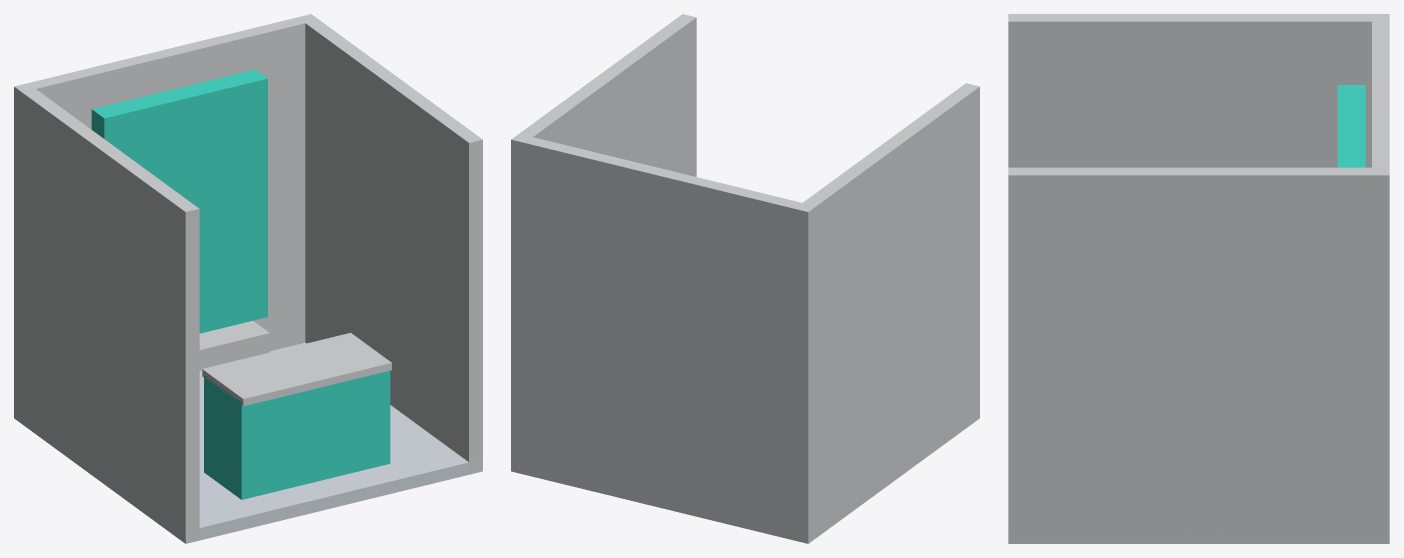
The picture shows the model from 3 angles, left to right: view 1: azimuth 30°, elevation 25°; view 2: azimuth 150°, elevation 25°; view 3: azimuth 270°, elevation 25°; orthographic projection. The views are drawn at different scales.
Visible parts, largest first — view 1: Exhibition Booth Concept; view 2: Exhibition Booth Concept; view 3: Exhibition Booth Concept.
Boxes of the visible parts, left/top/right/bottom form: Exhibition Booth Concept: left=14, top=14, right=482, bottom=543; Exhibition Booth Concept: left=511, top=14, right=979, bottom=543; Exhibition Booth Concept: left=1008, top=14, right=1389, bottom=543.
Size of the model in its own units: 3 by 3.2 by 3.
